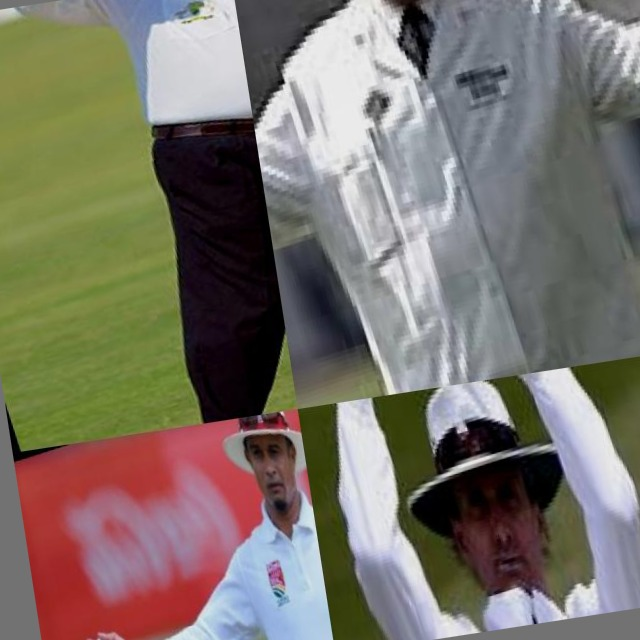Six: (0, 0, 298, 453), (298, 350, 640, 640)
Wide: (231, 0, 640, 409), (18, 409, 336, 640)
